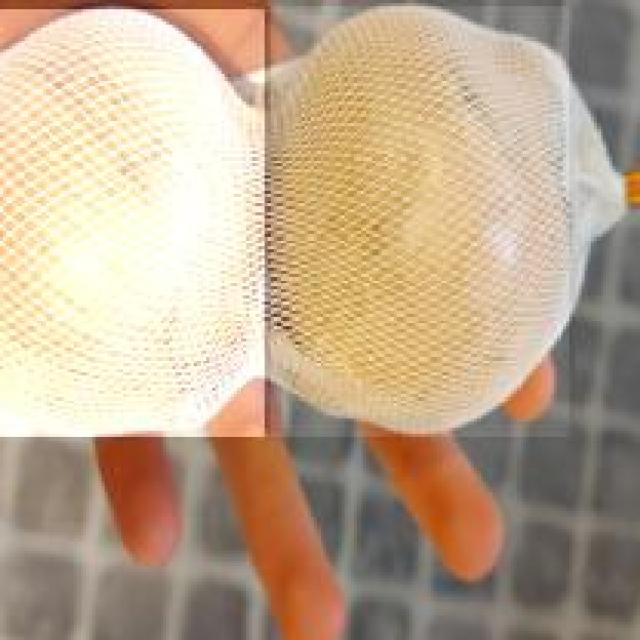onion: (268, 3, 569, 437), (0, 3, 265, 434)
